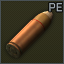9x21mm PE gzh: (0, 0, 64, 64)
